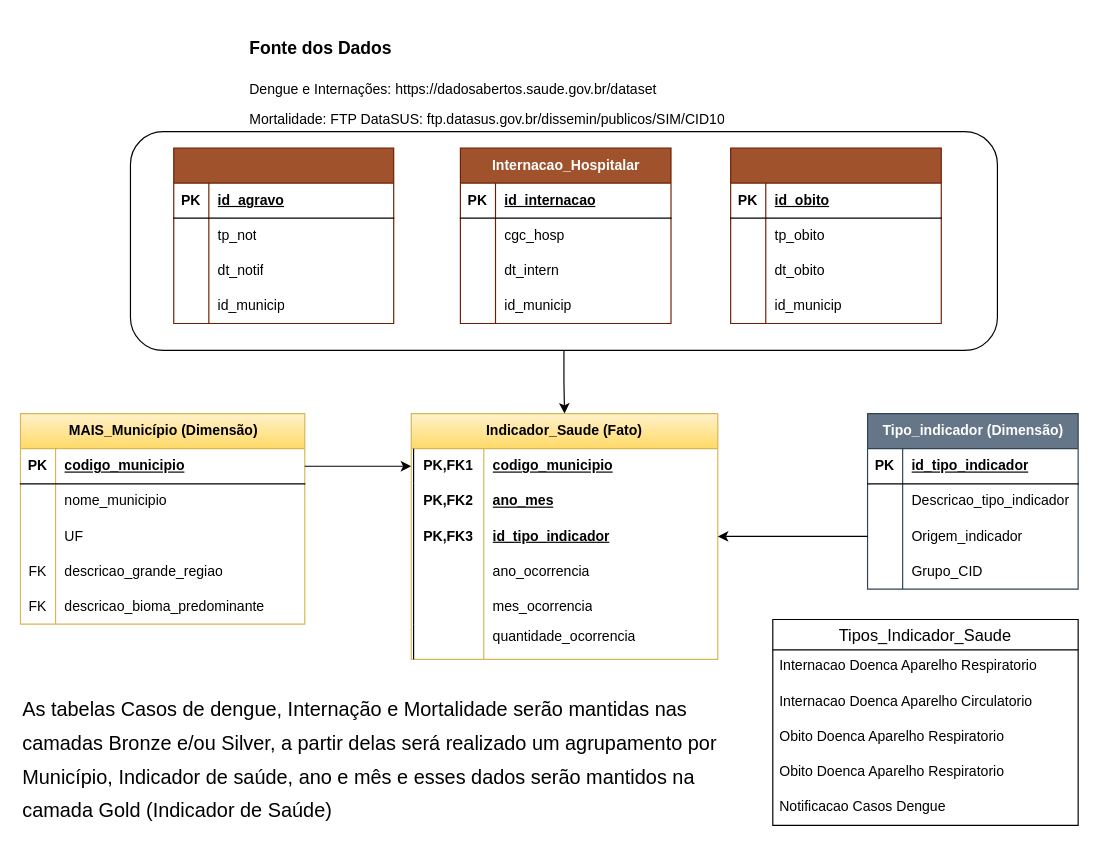
Some shapes in this 1099 by 848 pixel diagram are drawn without their labels. The box of each missing label's shape, as (x1, y1, x2, y2) in pixels:
Mortalidade: (729, 147, 941, 324)
Notificacao_Casos_Dengue: (173, 147, 394, 324)
